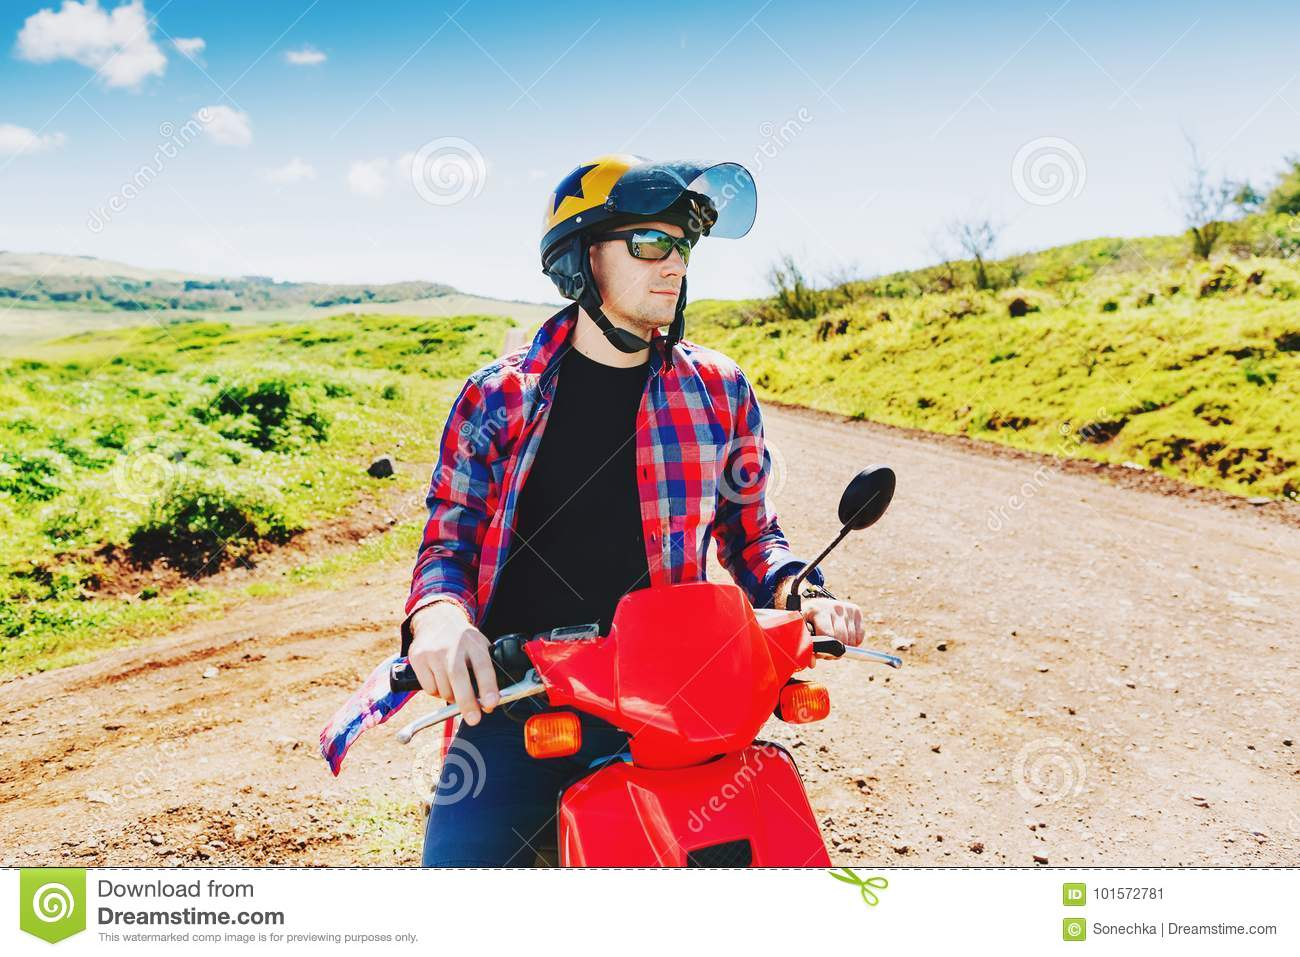helmet: (526, 139, 726, 246)
